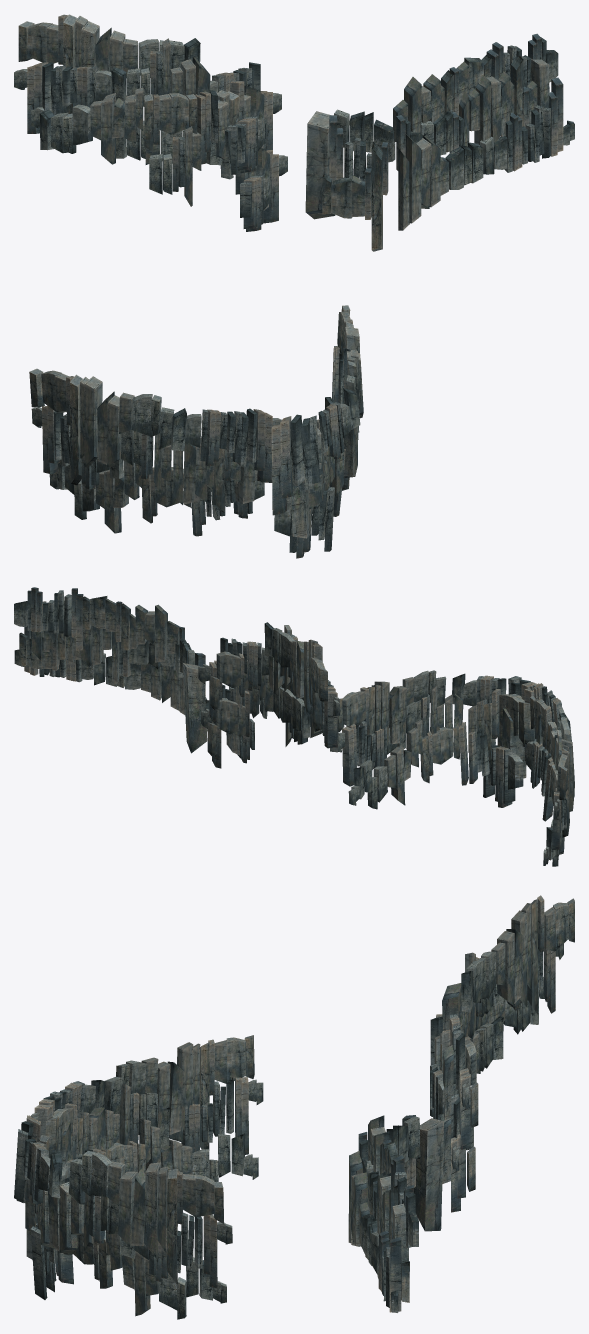
Rendered from Maincity_Wall_stone.FBX.
3 renders of one model, top to bottom at view 1: azimuth 30°, elevation 25°; view 2: azimuth 150°, elevation 25°; view 3: azimuth 270°, elevation 25°, orthographic. The views are drawn at different scales.
Visible parts, largest first — view 1: Box007; view 2: Box007; view 3: Box007.
Boxes of the visible parts, box(x1,y1,x2,y2) form: Box007: box(14, 14, 574, 558); Box007: box(14, 587, 574, 866); Box007: box(14, 895, 574, 1319).
Bounding box in the file's own units: 28331 × 16497 × 21443.
